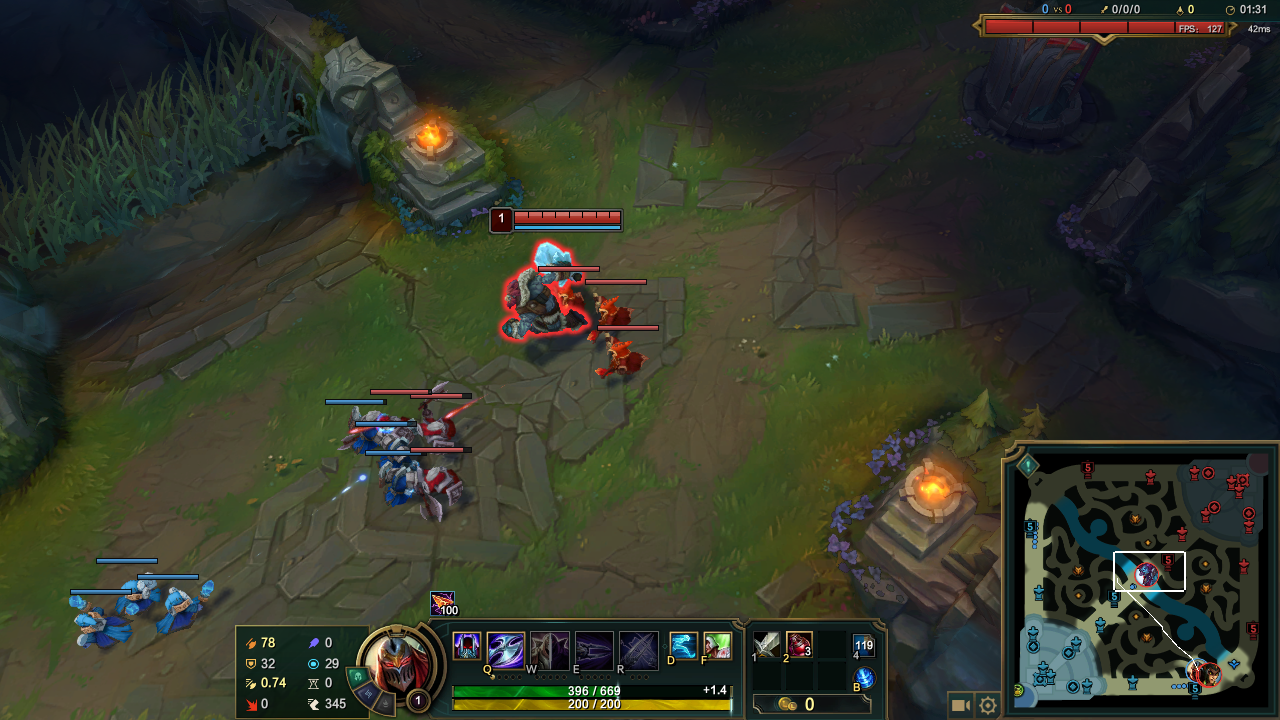DFYX: (510, 210, 616, 223)
